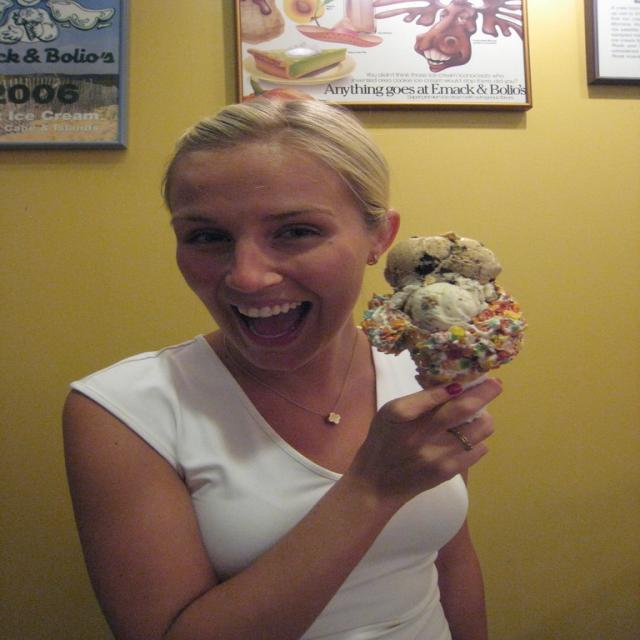Ice cream: (355, 230, 537, 408)
